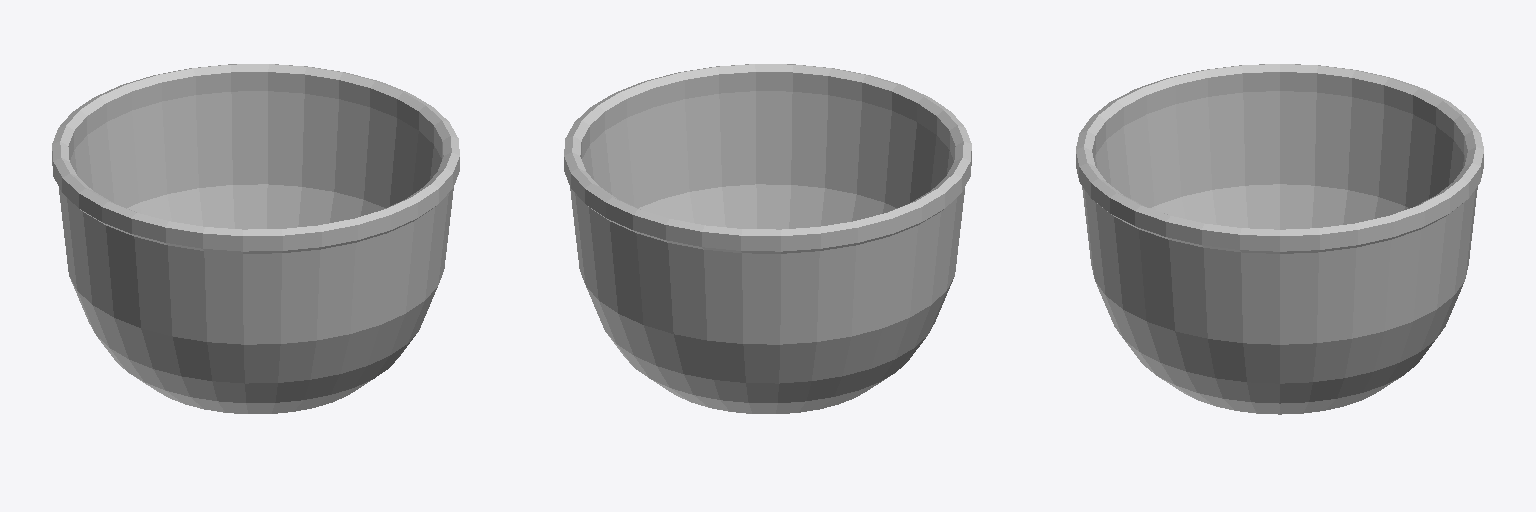
Rendered from mixing_bowl.obj.
3 views of the same model, side by side, from view 1: azimuth 30°, elevation 25°; view 2: azimuth 150°, elevation 25°; view 3: azimuth 270°, elevation 25° (orthographic).
Visible parts, largest first — view 1: Cylinder; view 2: Cylinder; view 3: Cylinder.
Boxes of the visible parts, x1,y1,x2,y2 form: Cylinder: [52, 64, 459, 413]; Cylinder: [564, 64, 971, 413]; Cylinder: [1076, 64, 1483, 414].
Bounding box in the file's own units: 6.13 × 3.61 × 6.13.